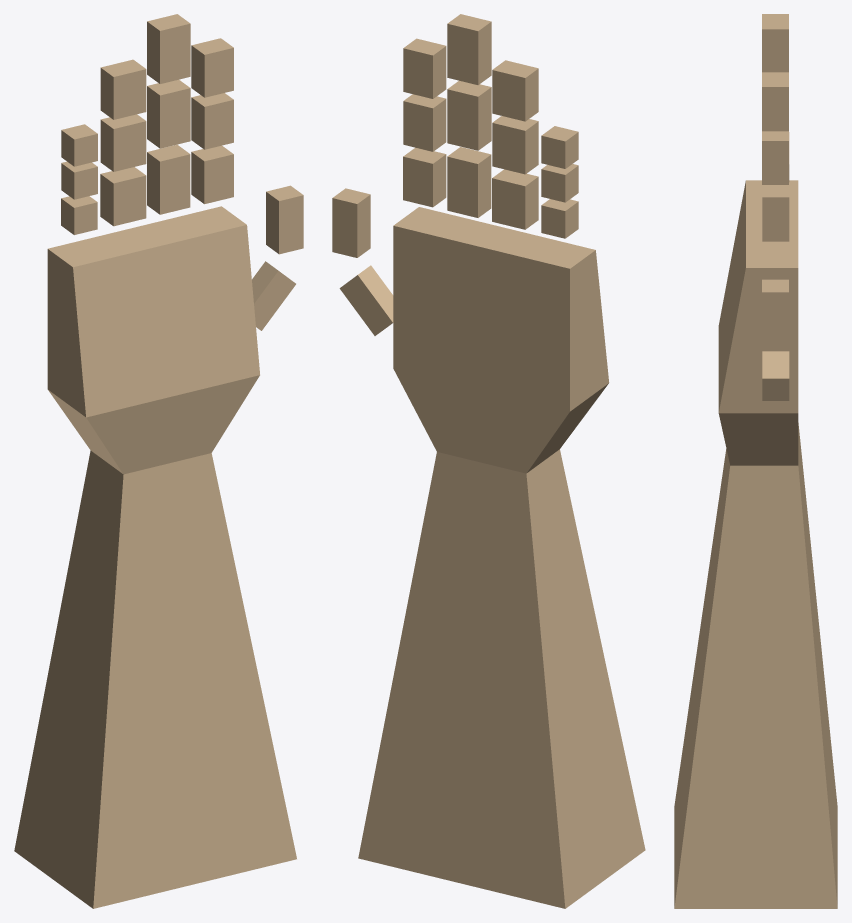
The model's file is RArmX.glb.
3 renders of one model, left to right at view 1: azimuth 30°, elevation 25°; view 2: azimuth 150°, elevation 25°; view 3: azimuth 270°, elevation 25°, orthographic. The views are drawn at different scales.
Parts seen in each view (by area): view 1: arm, m1, m3, m2, r3, r1, r2, t2, i3, i1, i2, t1 (+3 smaller); view 2: arm, m3, m1, m2, r3, r1, t2, r2, i3, i1, i2, t1 (+3 smaller); view 3: arm, t2, i3, i1, m3, i2, t1.
Part boxes in pixels (x1,y1,x2,y2): arm: (14,206,296,908); m1: (147,144,190,214); m3: (147,14,190,83); m2: (147,79,190,148); r3: (100,59,146,119); r1: (100,167,146,226); r2: (100,114,146,171); t2: (266,185,303,254); i3: (191,38,233,97); i1: (191,145,233,204); i2: (191,93,233,149); t1: (252,261,295,330); arm: (358,207,645,908); m3: (447,14,491,84); m1: (447,147,491,217); m2: (447,80,491,150); r3: (492,60,538,121); r1: (492,169,538,229); t2: (332,188,370,257); r2: (492,116,538,174); i3: (403,38,446,98); i1: (403,147,446,207); i2: (403,94,446,151); t1: (339,265,393,335); arm: (674,180,837,908); t2: (762,279,788,346); i3: (762,72,788,131); i1: (762,182,789,241); m3: (762,14,788,72); i2: (762,131,788,184); t1: (762,351,789,400).
Size of the model in its own units: 1.31 by 4.07 by 0.7103.
